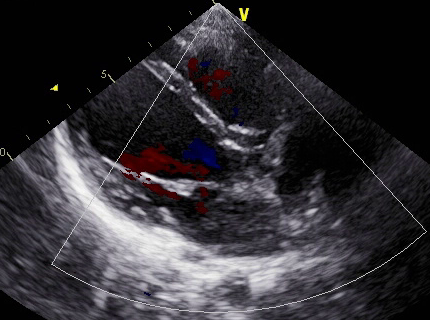AR: (138, 140, 205, 185)
